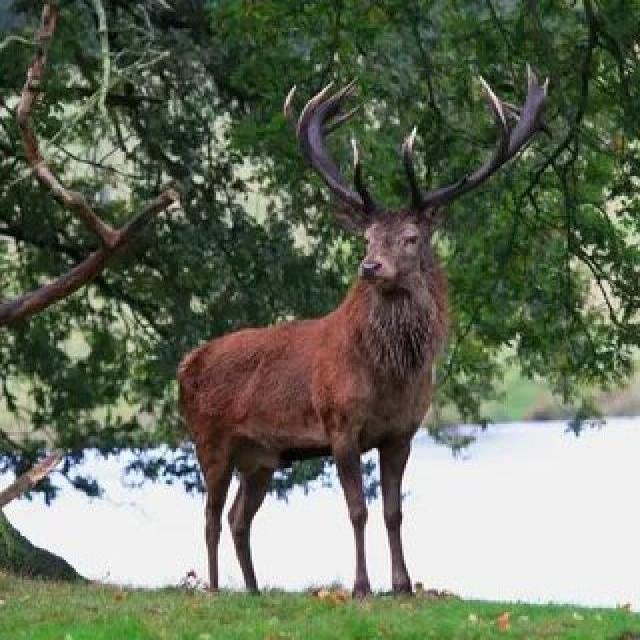deer: (76, 45, 540, 556)
